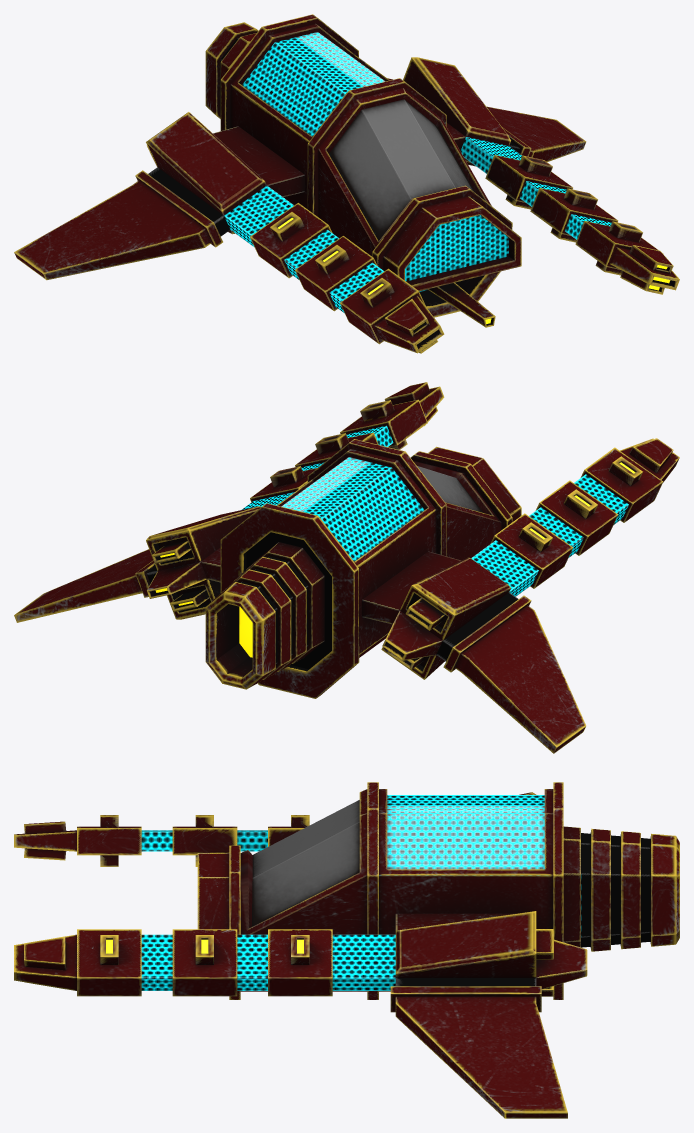
The model's file is space_battle_fighter.glb.
3 views of the same model, one above another, from view 1: azimuth 30°, elevation 25°; view 2: azimuth 150°, elevation 25°; view 3: azimuth 270°, elevation 25° (orthographic). The views are drawn at different scales.
Parts seen in each view (by area): view 1: Cube; view 2: Cube; view 3: Cube.
Part boxes in pixels (x1,y1,x2,y2): Cube: (14, 14, 679, 353); Cube: (14, 382, 679, 753); Cube: (14, 782, 679, 1118).
Size of the model in its own units: 5.58 by 1.76 by 5.6.
1 material, 1 textured.
